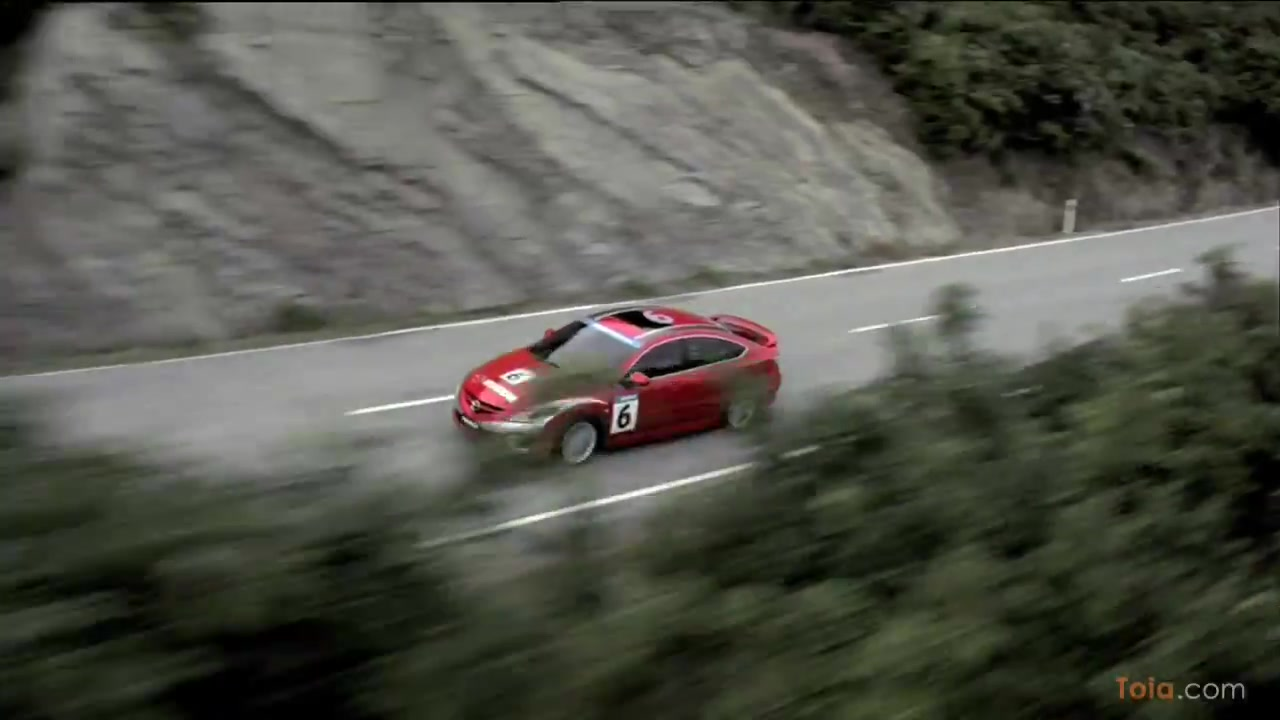car: (446, 309, 784, 468)
